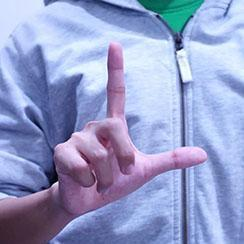L: (14, 6, 225, 237)
